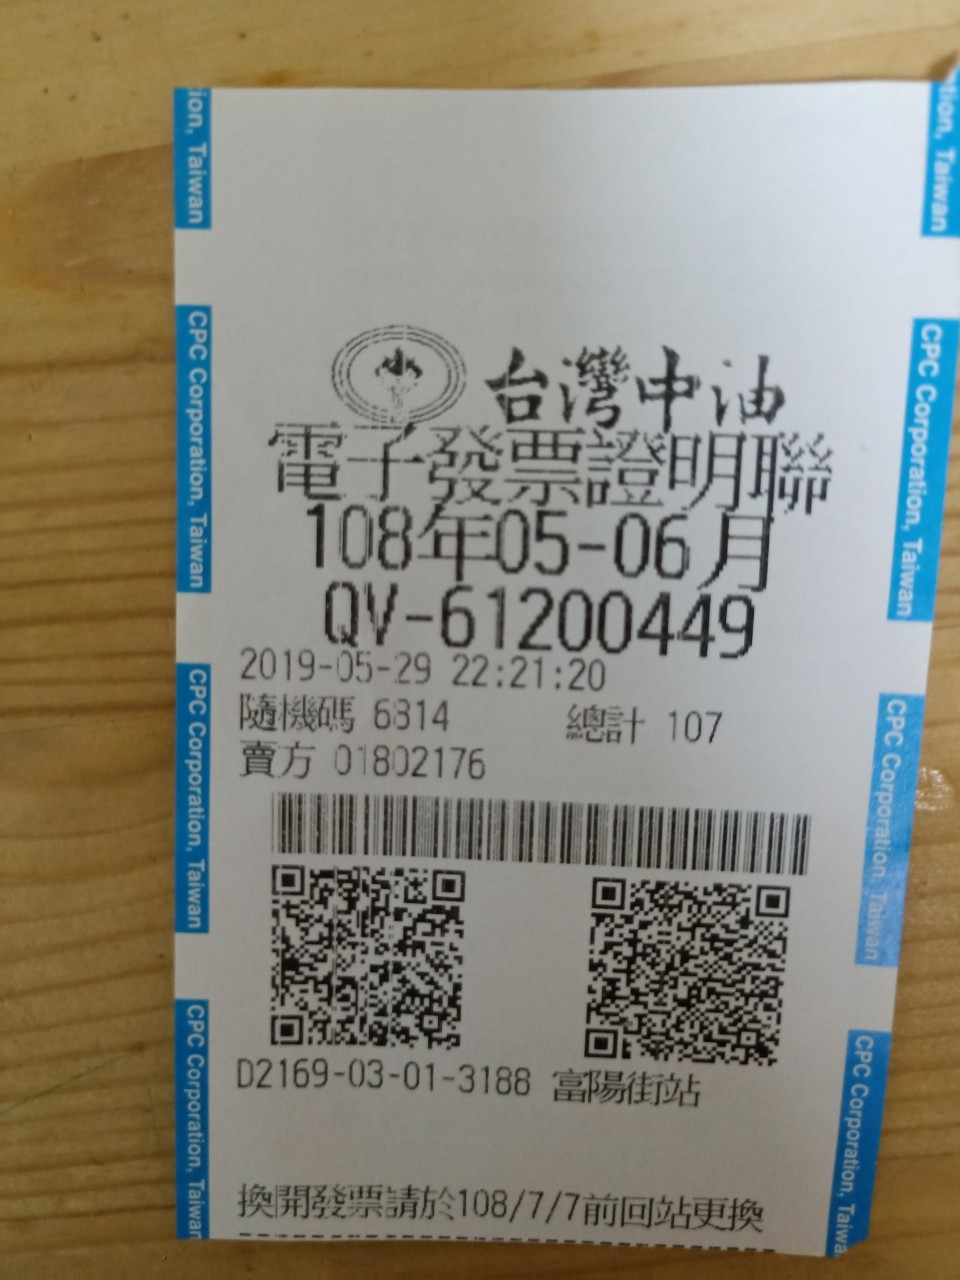Date_New: (305, 502, 769, 593)
Number_New: (436, 583, 759, 663)
